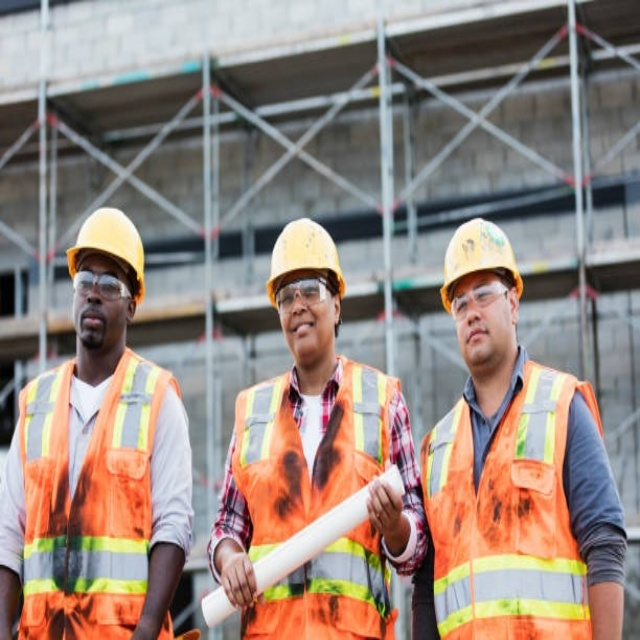Gafas: (276, 277, 334, 313), (451, 282, 509, 318), (73, 270, 133, 300)
Sin_guantes: (362, 472, 404, 542), (217, 544, 260, 610)
Sin_mascara: (460, 325, 493, 364), (287, 318, 316, 353), (78, 307, 104, 337)
